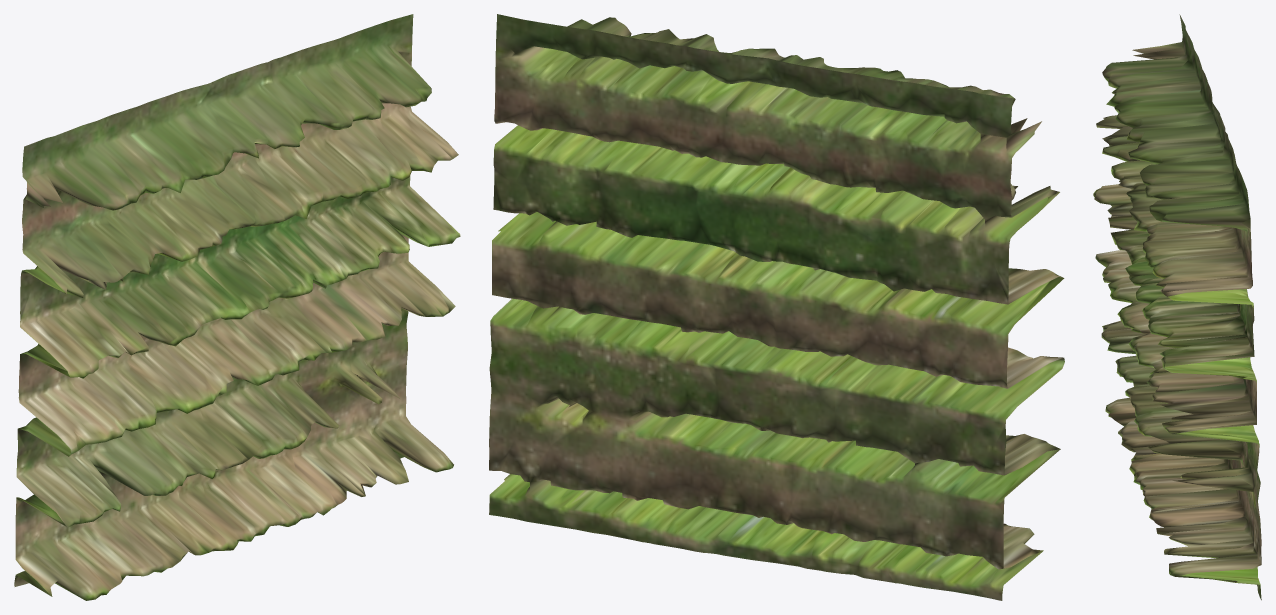
The model's file is map_230_50.obj.
The picture shows the model from 3 angles, left to right: view 1: azimuth 30°, elevation 25°; view 2: azimuth 150°, elevation 25°; view 3: azimuth 270°, elevation 25°; orthographic projection. The views are drawn at different scales.
Size of the model in its own units: 10 by 10 by 3.82.
1 material, 1 textured.
